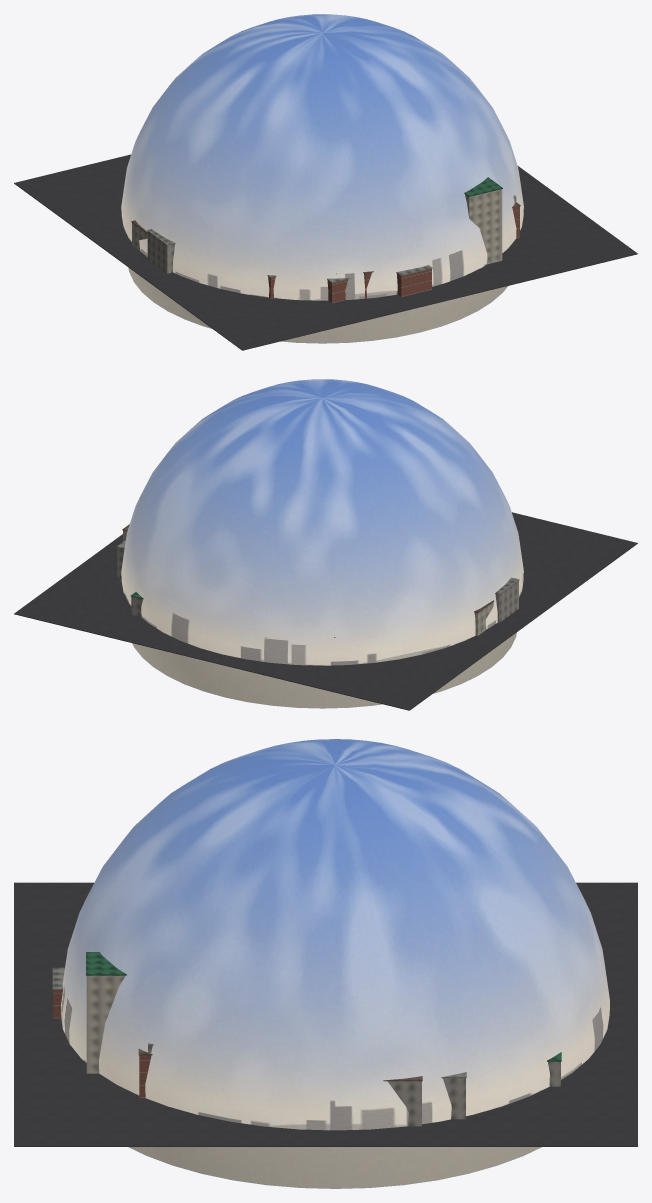
Rendered from prologue_gate.glb.
3 views of the same model, one above another, from view 1: azimuth 30°, elevation 25°; view 2: azimuth 150°, elevation 25°; view 3: azimuth 270°, elevation 25° (orthographic). The views are drawn at different scales.
Visible parts, largest first — view 1: sky_backdrop, far; view 2: sky_backdrop, far; view 3: sky_backdrop, far.
Part boxes in pixels (bbox=[...]): sky_backdrop: bbox=[121, 14, 523, 343]; far: bbox=[14, 154, 637, 350]; sky_backdrop: bbox=[121, 379, 523, 708]; far: bbox=[14, 512, 637, 710]; sky_backdrop: bbox=[61, 739, 609, 1188]; far: bbox=[14, 882, 637, 1146].
Size of the model in its own units: 136 by 74.92 by 136.
Materials: 85 (43 with a texture image).
